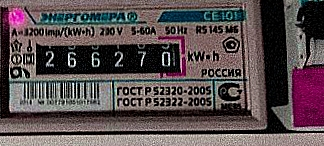0: (158, 48, 170, 68)
2: (41, 47, 56, 68), (111, 48, 124, 68)
6: (64, 49, 77, 69), (88, 49, 101, 68)
7: (134, 48, 147, 67)
screen: (21, 28, 195, 86)
